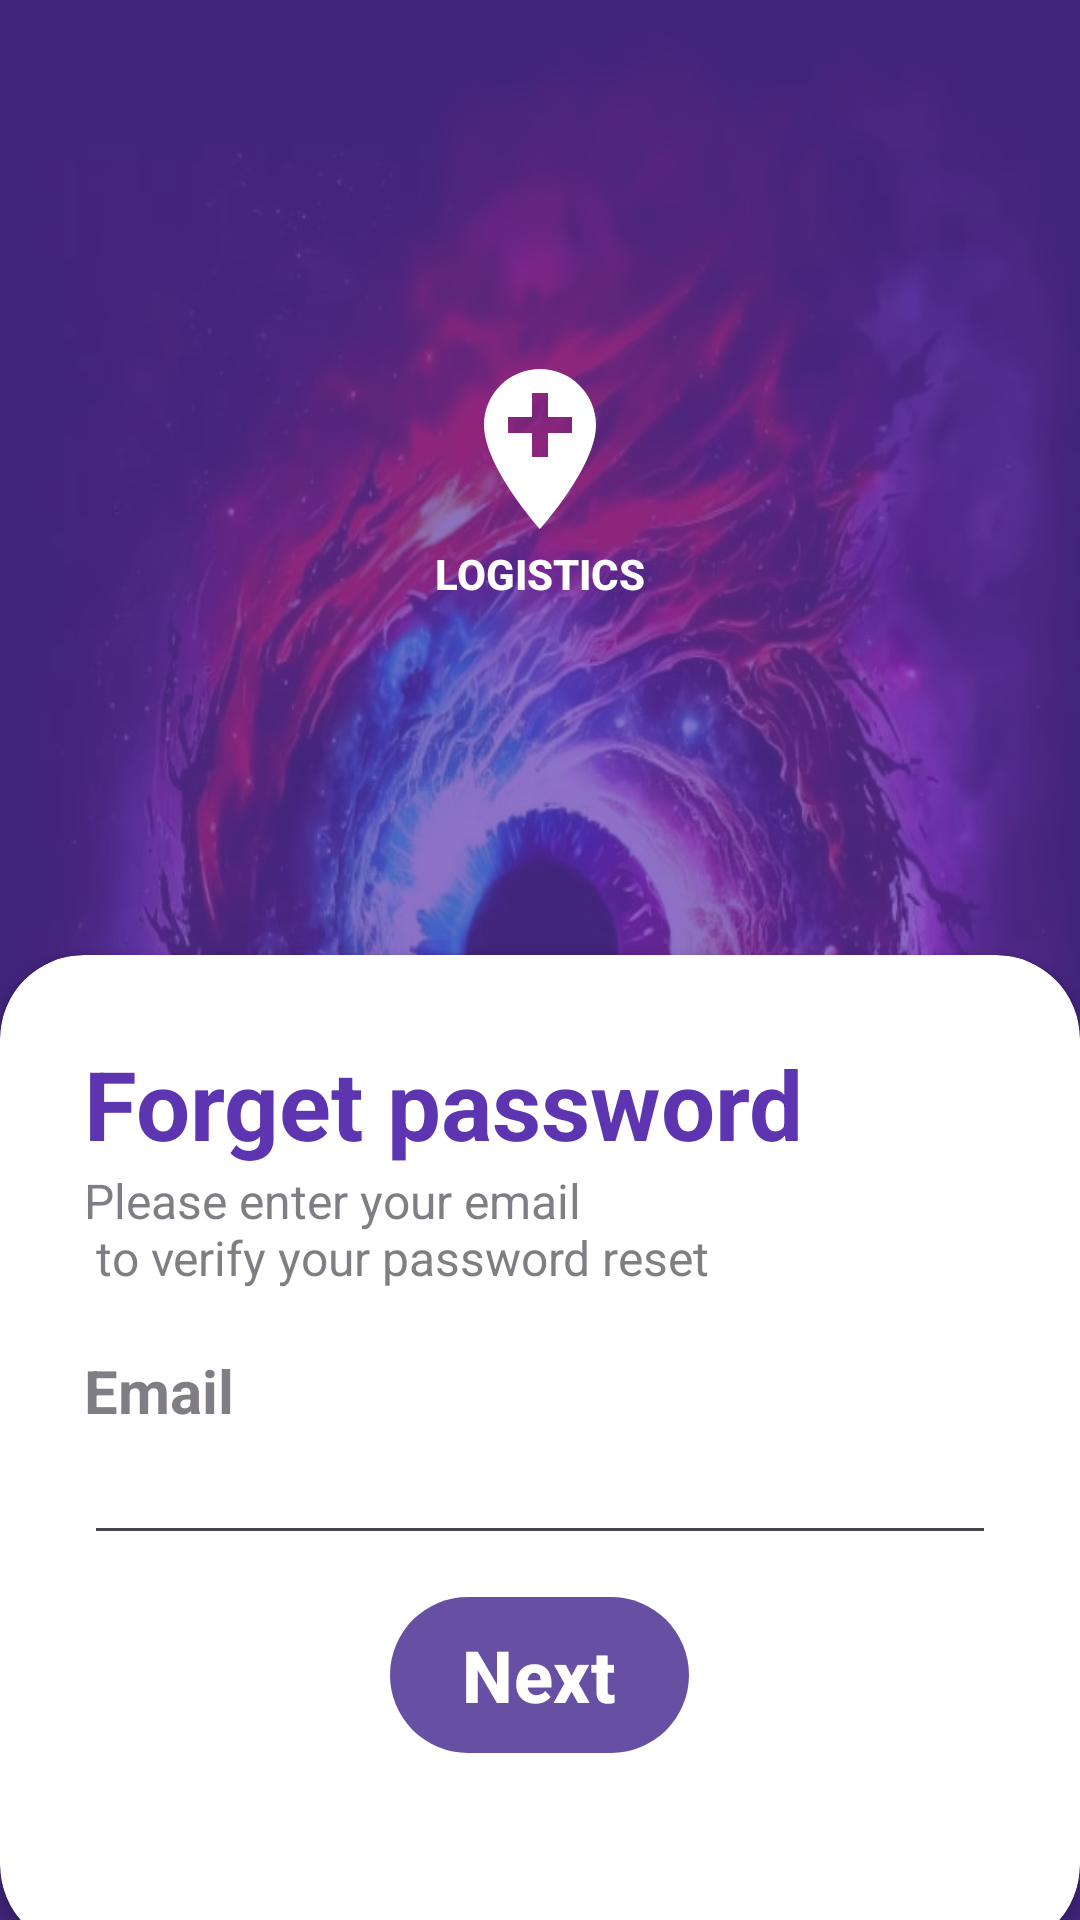

Where to tap for icons on this 1080 × 1920 app screen, as (x,y):
location: (540,449)
